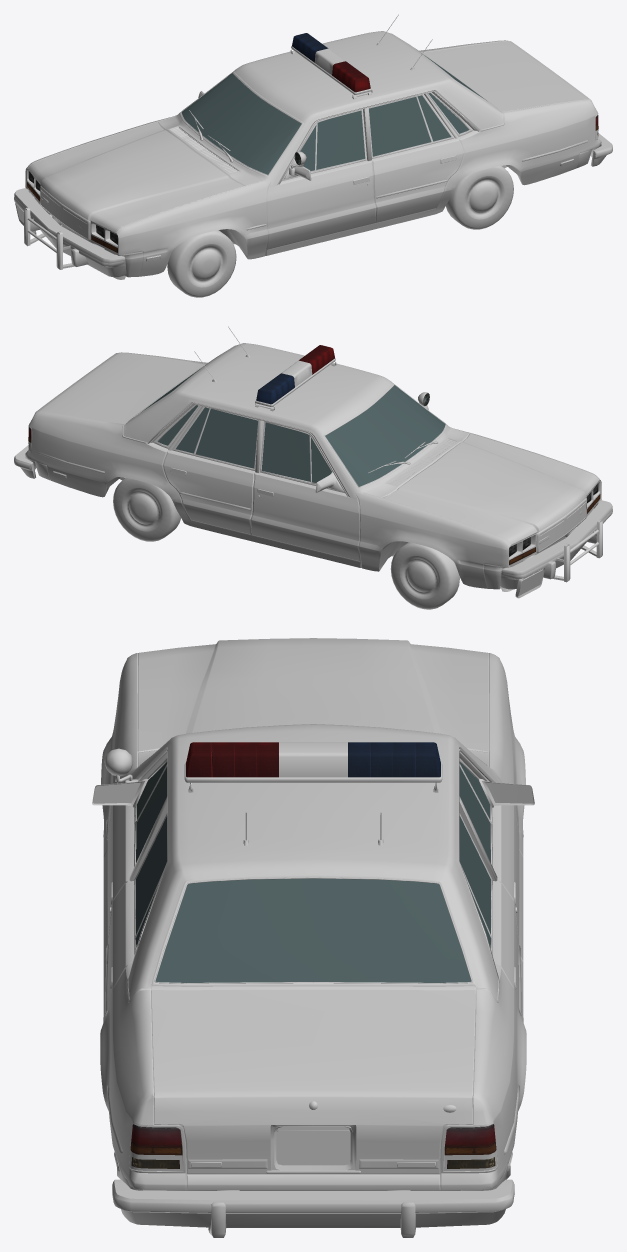
File: Intercept.fbx
3 renders of one model, top to bottom at view 1: azimuth 30°, elevation 25°; view 2: azimuth 150°, elevation 25°; view 3: azimuth 270°, elevation 25°, orthographic. The views are drawn at different scales.
Parts seen in each view (by area): view 1: body, Hood, Door_FL, Wiendshield, trunk_door, Door_RL, Wheel_FL, Door_Glass_RL, Wheel_RL, Door_Glass_FL, bumper_front, Bodytrim (+9 smaller); view 2: body, Hood, Door_FR, Wiendshield, trunk_door, Door_RR, Wheel_FR, Door_Glass_RR, Wheel_RR, Door_Glass_FR, Bodytrim, bumper_front (+9 smaller); view 3: body, trunk_door, Hood, Windows_rear, bumper_rear, Bodytrim, Lightbar_glass, Lightbar, Door_FR, Door_FL, Trunk_door_inner, Numberplate_rear (+12 smaller).
Boxes of the visible parts, x1,y1,x2,y2 form: body: (25, 31, 601, 277); Hood: (28, 122, 244, 232); Door_FL: (266, 160, 376, 249); Wiendshield: (181, 73, 301, 174); trunk_door: (422, 41, 590, 112); Door_RL: (372, 138, 463, 222); Wheel_FL: (167, 230, 236, 297); Door_Glass_RL: (369, 95, 450, 156); Wheel_RL: (446, 166, 513, 229); Door_Glass_FL: (300, 110, 365, 171); bumper_front: (14, 188, 126, 277); Bodytrim: (179, 33, 587, 184); body: (25, 343, 601, 589); Hood: (382, 434, 598, 544); Door_FR: (250, 472, 360, 561); Wiendshield: (325, 385, 445, 486); trunk_door: (36, 353, 204, 424); Door_RR: (163, 450, 254, 534); Wheel_FR: (390, 542, 459, 609); Door_Glass_RR: (176, 407, 257, 468); Wheel_RR: (113, 478, 180, 541); Door_Glass_FR: (261, 423, 331, 483); Bodytrim: (39, 345, 447, 496); bumper_front: (500, 500, 612, 598); body: (100, 653, 526, 1190); trunk_door: (151, 990, 475, 1174); Hood: (137, 638, 489, 752); Windows_rear: (155, 878, 471, 982); bumper_rear: (112, 1179, 514, 1237); Bodytrim: (107, 749, 519, 1171); Lightbar_glass: (186, 742, 440, 777); Lightbar: (184, 742, 442, 792); Door_FR: (492, 782, 523, 962); Door_FL: (103, 805, 134, 962); Trunk_door_inner: (188, 1101, 438, 1173); Numberplate_rear: (277, 1130, 350, 1164).
Size of the model in its own units: 199 by 72.15 by 61.93.
